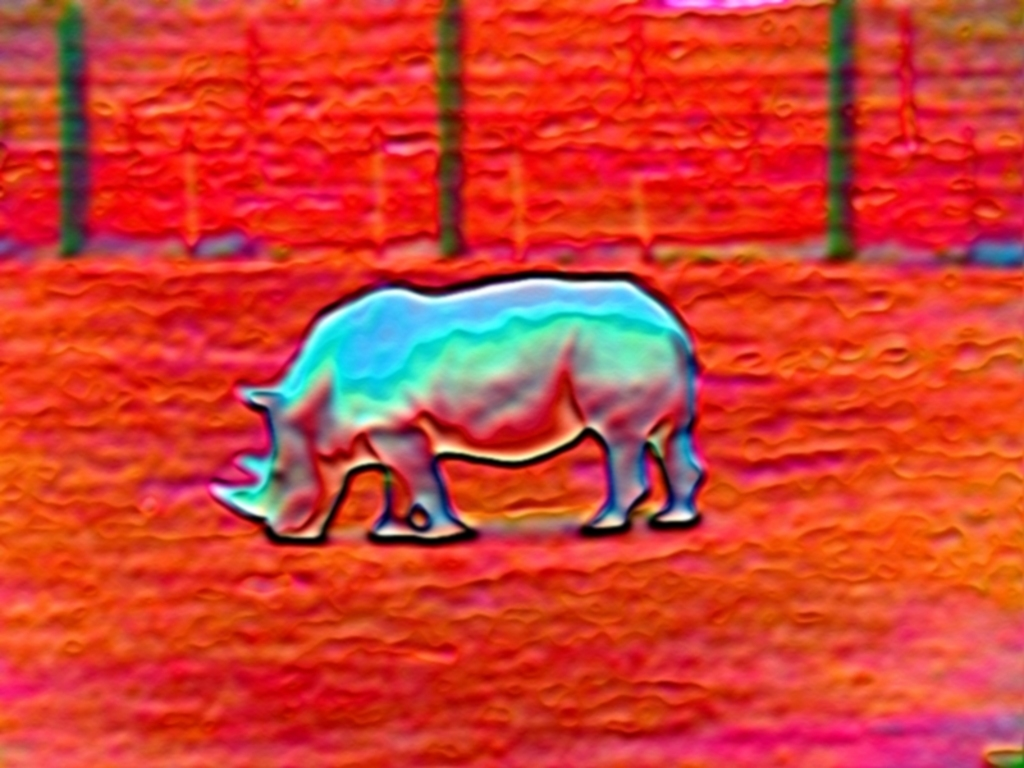Animal: (202, 273, 740, 542)
